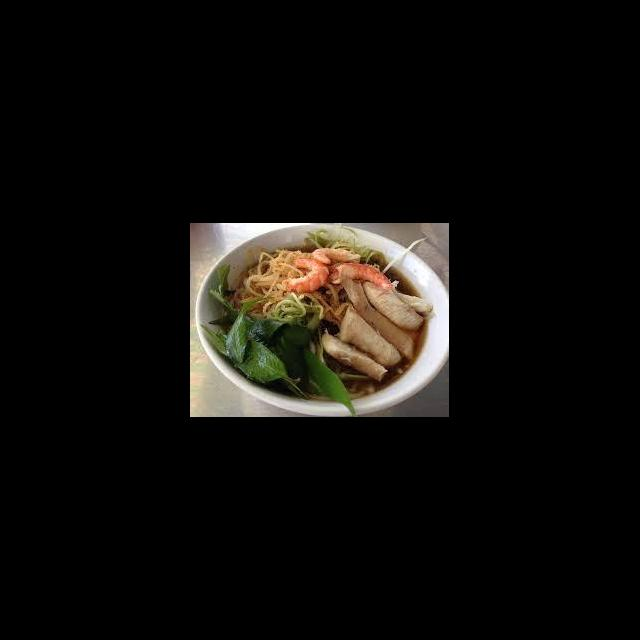bi: (230, 246, 316, 322), (308, 280, 354, 327)
ca: (340, 276, 418, 363), (336, 300, 404, 370), (318, 330, 391, 384), (360, 276, 424, 331), (390, 275, 436, 316)
rau ram: (200, 262, 278, 367), (250, 315, 316, 389), (296, 347, 358, 417), (230, 336, 302, 389)
tom: (324, 258, 394, 296), (282, 255, 331, 296), (310, 245, 364, 268)
